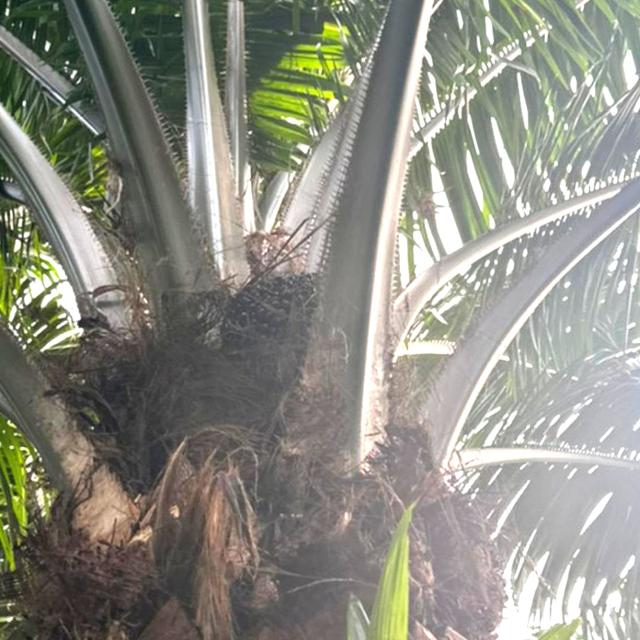unripe: (222, 269, 314, 372)
